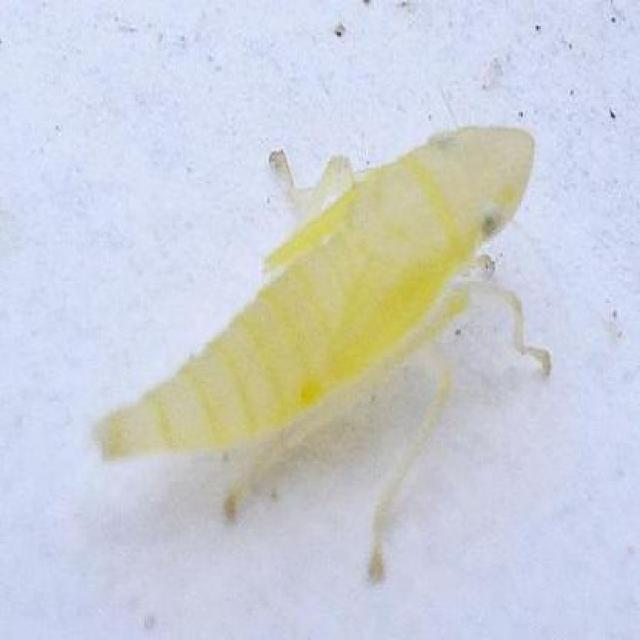green-leafhopper: (101, 126, 557, 578)
